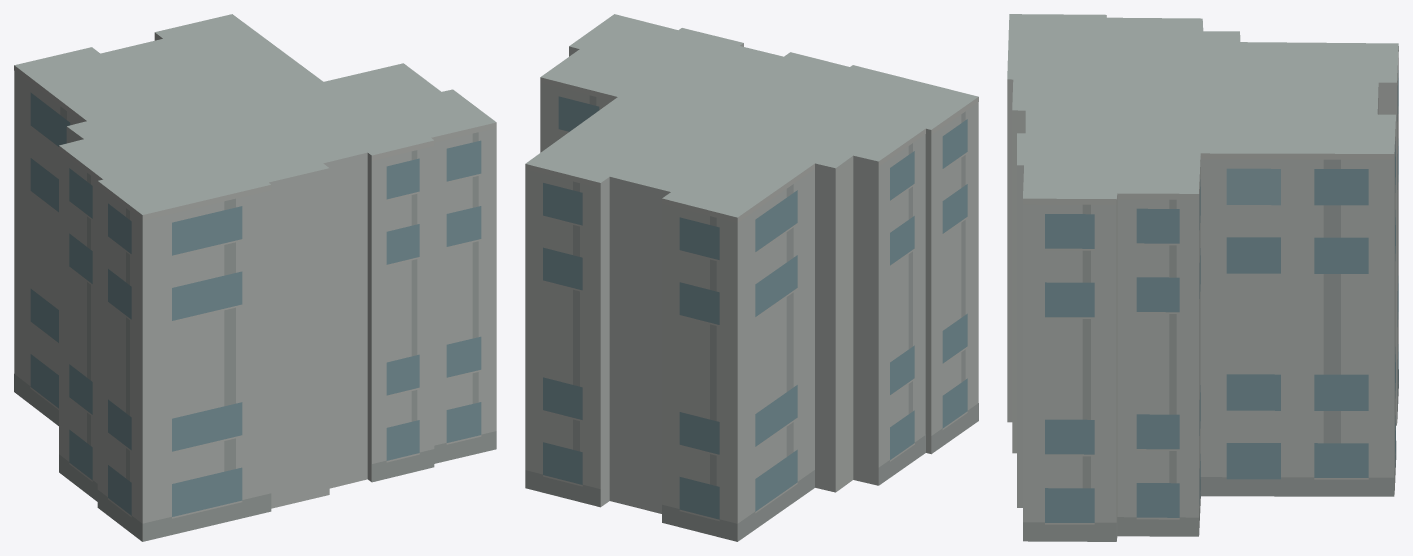
The model's file is survey-upis-32496017.glb.
The picture shows the model from 3 angles, left to right: view 1: azimuth 30°, elevation 25°; view 2: azimuth 150°, elevation 25°; view 3: azimuth 270°, elevation 25°; orthographic projection. The views are drawn at different scales.
Parts seen in each view (by area): view 1: survey-upis-32496017.tmp; view 2: survey-upis-32496017.tmp; view 3: survey-upis-32496017.tmp.
Part boxes in pixels (left/top/right/bottom): survey-upis-32496017.tmp: left=14, top=14, right=496, bottom=541; survey-upis-32496017.tmp: left=525, top=14, right=978, bottom=541; survey-upis-32496017.tmp: left=1007, top=14, right=1398, bottom=541.
Bounding box in the file's own units: 16.69 × 14.4 × 14.92.
